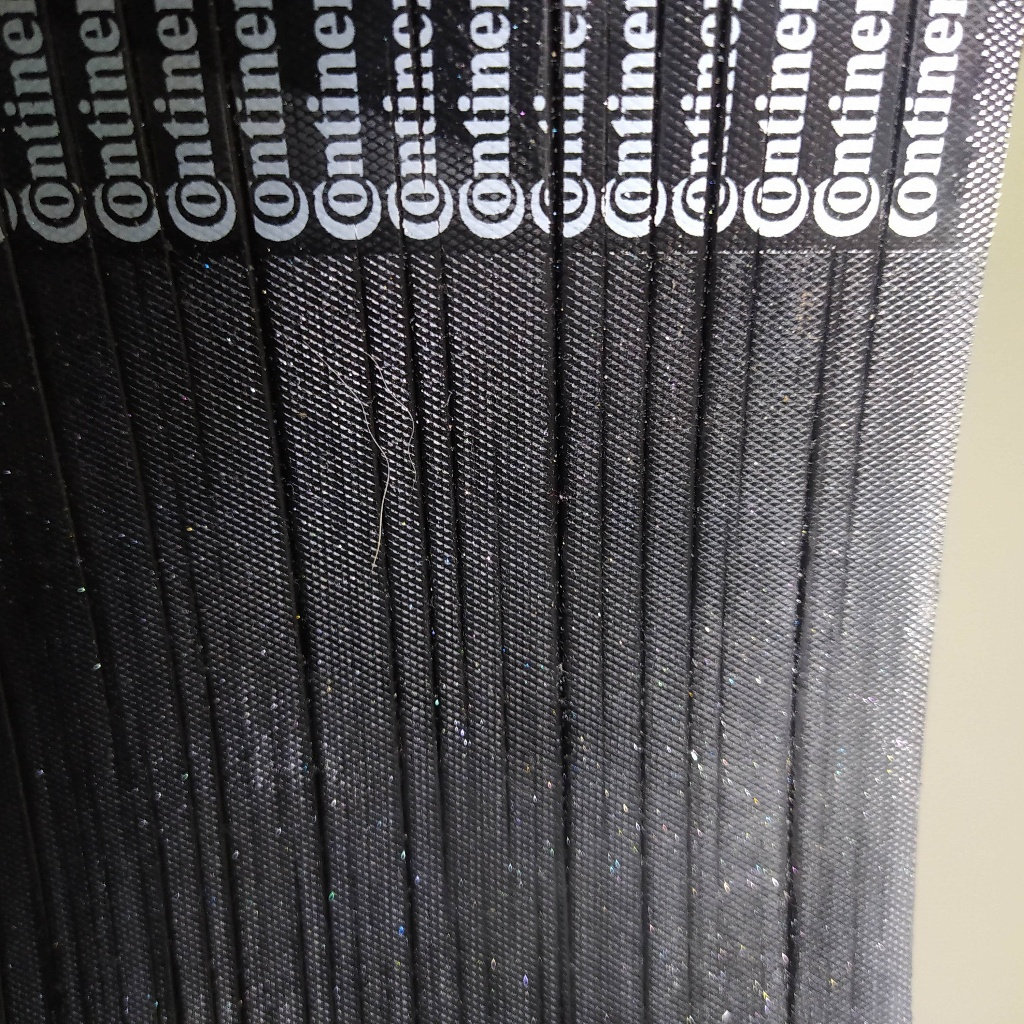friso grande: (555, 657, 580, 1023), (546, 410, 573, 657), (540, 31, 568, 266), (780, 744, 802, 1021), (255, 401, 303, 514), (543, 260, 574, 424), (637, 705, 653, 1021), (31, 892, 70, 1021), (689, 254, 720, 402), (420, 578, 448, 737), (154, 893, 189, 1019), (452, 554, 474, 751), (797, 403, 825, 550), (788, 549, 808, 747), (430, 736, 451, 920), (700, 118, 727, 258), (739, 247, 762, 405), (636, 507, 654, 706), (813, 278, 839, 406), (595, 574, 610, 793), (446, 418, 469, 560), (414, 467, 440, 581), (373, 457, 397, 580), (403, 895, 426, 1021), (272, 515, 307, 596), (596, 401, 612, 578), (398, 297, 426, 398), (499, 713, 516, 877), (688, 398, 713, 507), (858, 272, 878, 408), (684, 504, 705, 632), (69, 901, 92, 1016), (635, 403, 660, 507), (890, 51, 910, 178), (527, 718, 543, 873), (683, 629, 696, 815), (600, 71, 614, 242), (709, 24, 732, 125), (389, 686, 413, 782), (398, 778, 416, 897), (383, 576, 402, 688), (295, 674, 323, 750), (685, 809, 695, 1019), (413, 393, 439, 473), (648, 151, 661, 309), (17, 272, 43, 350), (528, 867, 548, 968), (876, 175, 896, 275), (286, 600, 313, 674), (599, 240, 611, 406), (494, 600, 511, 716), (42, 713, 61, 811), (145, 135, 166, 223), (303, 748, 326, 828), (169, 662, 193, 738), (24, 823, 49, 894), (651, 28, 665, 152), (112, 926, 130, 1022), (245, 274, 274, 333), (31, 345, 58, 408), (58, 811, 77, 900), (363, 395, 389, 460), (385, 29, 400, 137), (3, 208, 27, 274), (395, 216, 415, 295), (258, 335, 281, 403), (356, 230, 373, 321), (38, 406, 72, 451), (407, 20, 426, 99), (415, 100, 431, 193), (361, 318, 380, 396), (183, 329, 205, 396), (189, 807, 207, 887), (100, 268, 120, 340), (159, 587, 177, 665), (389, 138, 407, 216), (205, 708, 229, 766), (644, 300, 657, 407), (529, 964, 552, 1024), (115, 341, 137, 401), (84, 200, 104, 266), (180, 736, 198, 809), (203, 954, 222, 1021), (160, 219, 181, 279), (152, 830, 171, 896), (72, 132, 91, 198), (240, 217, 262, 274), (208, 767, 233, 816), (285, 867, 307, 922), (313, 831, 333, 890), (445, 344, 460, 422), (440, 274, 456, 347), (319, 935, 339, 993), (225, 921, 248, 970), (171, 278, 191, 333), (137, 448, 152, 521), (217, 814, 236, 871), (55, 81, 75, 135), (147, 518, 162, 589), (199, 885, 214, 954), (52, 452, 79, 490), (61, 494, 94, 525), (130, 59, 145, 127), (495, 509, 506, 601), (293, 960, 316, 1004), (234, 974, 254, 1024), (67, 525, 93, 563), (8, 718, 28, 766), (76, 561, 103, 595), (111, 727, 133, 768), (217, 85, 234, 137), (222, 869, 240, 918), (226, 138, 247, 180), (104, 692, 129, 726), (598, 23, 615, 73), (103, 875, 118, 931), (233, 179, 254, 219), (492, 450, 505, 514), (42, 24, 56, 82), (317, 893, 335, 938), (96, 819, 111, 872), (824, 247, 847, 281), (213, 33, 228, 84), (89, 628, 116, 656), (87, 596, 112, 626), (290, 922, 309, 961), (25, 766, 37, 823), (98, 657, 118, 691), (128, 404, 140, 449), (325, 995, 341, 1024), (124, 24, 136, 60), (299, 1003, 316, 1023), (904, 27, 916, 51)
friso pequeno: (836, 486, 859, 638), (341, 792, 364, 918), (205, 466, 230, 581), (346, 918, 373, 1024), (713, 678, 724, 891), (141, 742, 161, 830), (717, 536, 729, 679), (192, 396, 214, 466), (851, 406, 869, 489), (733, 435, 748, 531), (73, 742, 88, 837), (165, 474, 191, 526), (162, 389, 176, 474), (199, 651, 220, 706), (176, 531, 201, 573), (84, 837, 96, 917), (93, 920, 104, 1004), (134, 679, 148, 743), (151, 332, 165, 392), (189, 616, 212, 651), (185, 575, 203, 614), (719, 495, 732, 543), (740, 401, 750, 436)
